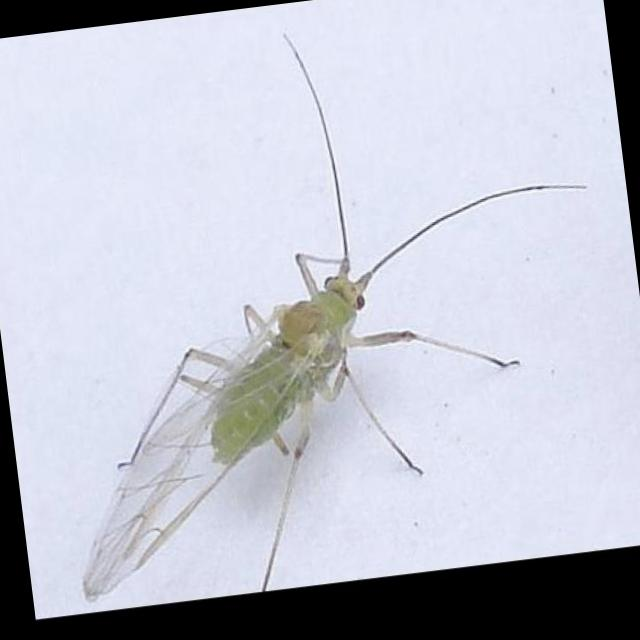aphid: (30, 180, 508, 608)
